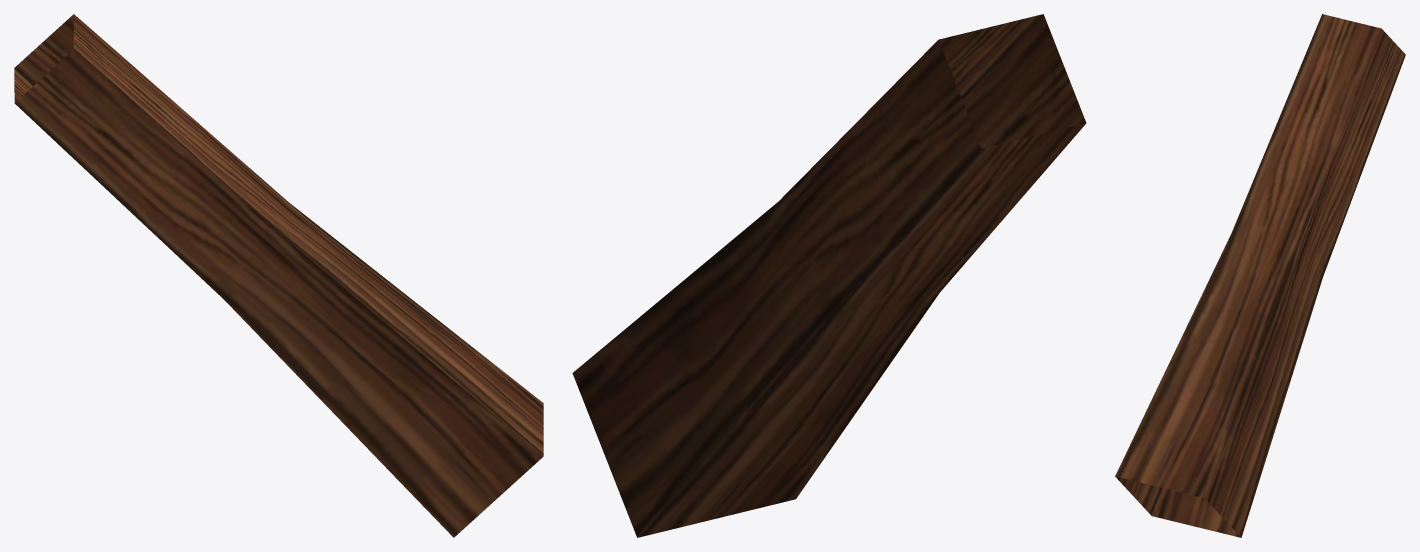
Rendered from OVERHILL_A_01_POST28.fbx.
3 renders of one model, left to right at view 1: azimuth 30°, elevation 25°; view 2: azimuth 150°, elevation 25°; view 3: azimuth 270°, elevation 25°, orthographic. The views are drawn at different scales.
Parts seen in each view (by area): view 1: OVERHILL_A_01_POST28; view 2: OVERHILL_A_01_POST28; view 3: OVERHILL_A_01_POST28.
Part boxes in pixels (x1,y1,x2,y2): OVERHILL_A_01_POST28: (14,14,543,537); OVERHILL_A_01_POST28: (572,14,1086,537); OVERHILL_A_01_POST28: (1115,14,1405,537).
Size of the model in its own units: 6765 by 7005 by 4712.
1 material, 1 textured.
